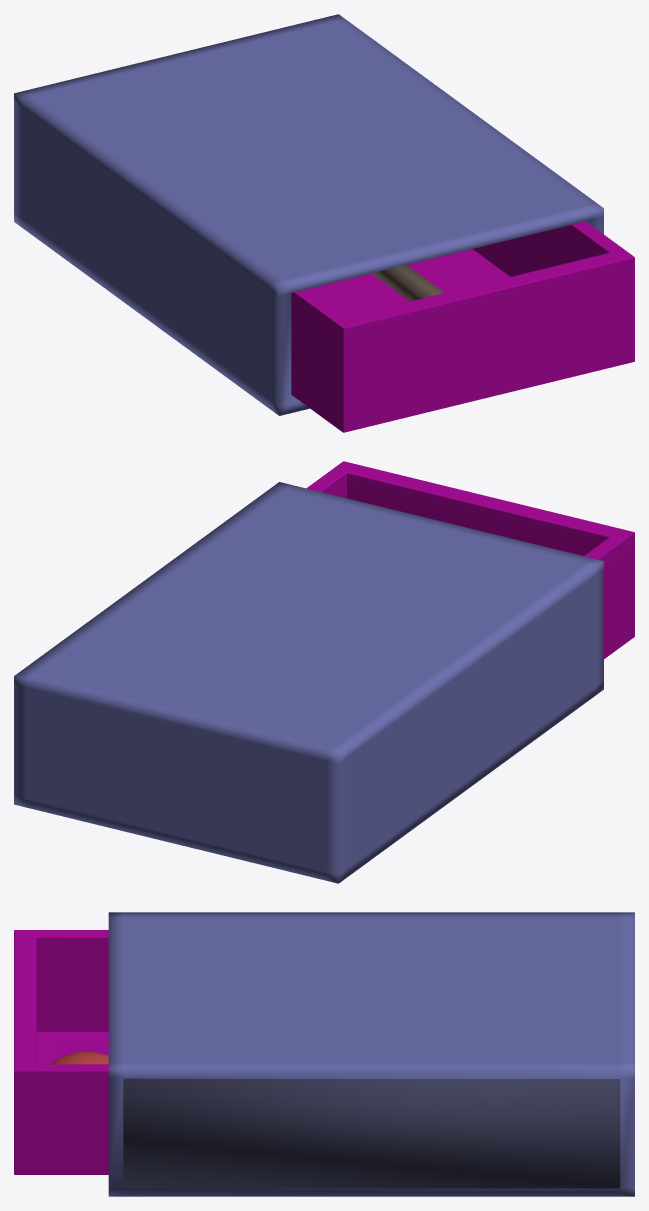
File: Cerillas.fbx
3 renders of one model, top to bottom at view 1: azimuth 30°, elevation 25°; view 2: azimuth 150°, elevation 25°; view 3: azimuth 270°, elevation 25°, orthographic.
Visible parts, largest first — view 1: Caja, cajetilla, polySurface9; view 2: Caja, cajetilla; view 3: Caja, cajetilla, polySurface10.
Boxes of the visible parts, x1,y1,x2,y2 form: Caja: (14, 14, 603, 415); cajetilla: (291, 221, 634, 432); polySurface9: (372, 265, 444, 301); Caja: (14, 482, 603, 883); cajetilla: (306, 461, 634, 658); Caja: (108, 912, 634, 1196); cajetilla: (14, 930, 108, 1174); polySurface10: (51, 1052, 108, 1064).
Bounding box in the file's own units: 3.67 × 1.38 × 6.1.
